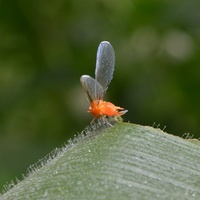insect: (80, 41, 127, 116), (80, 75, 127, 116)
